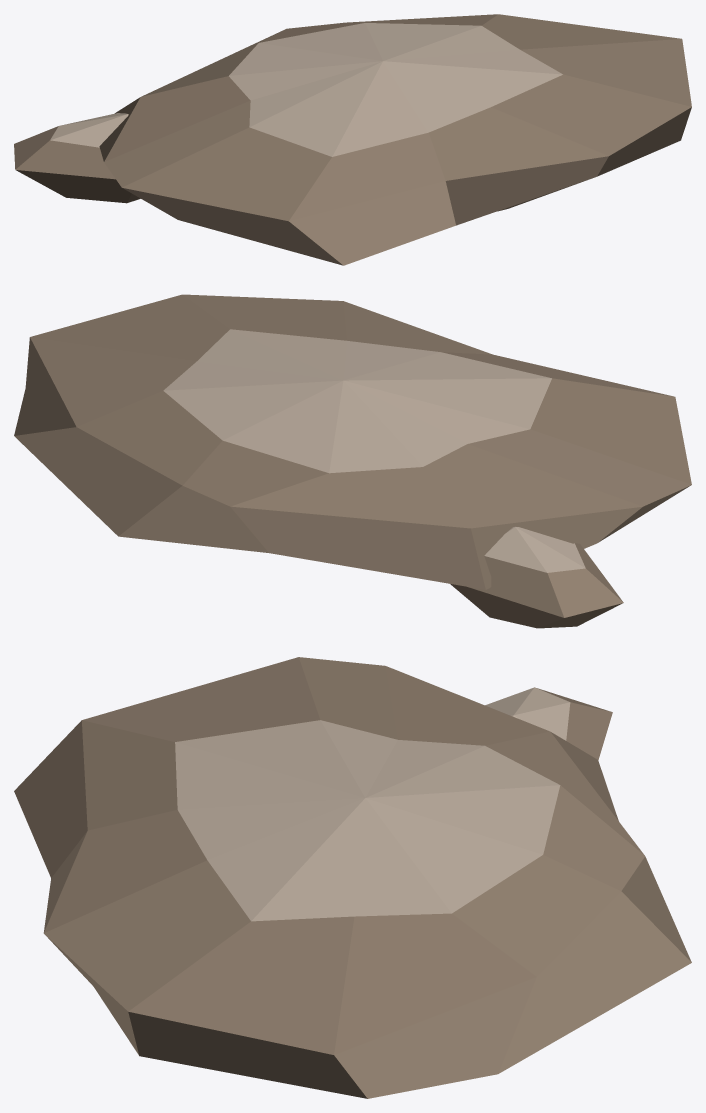
The model's file is RockFlat.fbx.
3 views of the same model, one above another, from view 1: azimuth 30°, elevation 25°; view 2: azimuth 150°, elevation 25°; view 3: azimuth 270°, elevation 25° (orthographic). The views are drawn at different scales.
Visible parts, largest first — view 1: RockFlat; view 2: RockFlat; view 3: RockFlat.
Part boxes in pixels (<box>): RockFlat: <box>14,14,691,265</box>; RockFlat: <box>14,294,691,628</box>; RockFlat: <box>14,657,691,1098</box>.
Bounding box in the file's own units: 331 × 60 × 229.
